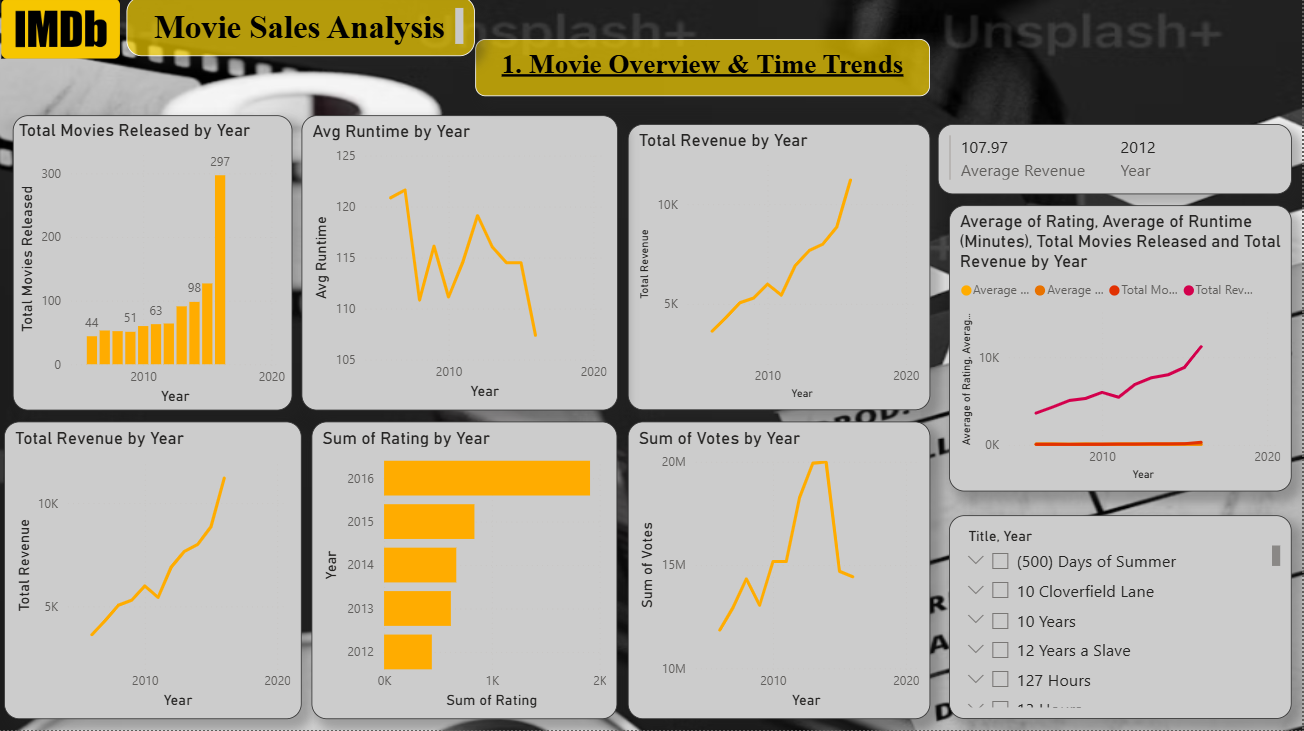

The page's visual inventory and layout, read from the dashboard file:
{"tool":"powerbi","page":{"name":"Page 1","canvas":[1280,720],"ordinal":0},"visuals":[{"type":"columnChart","fields":{"Category":["IMDB-Movie-Data.Year"],"Y":["IMDB-Movie-Data.Total Movies Released"]},"box":[18.3,118.6,273.9,288.6],"z":0},{"type":"lineChart","fields":{"Category":["IMDB-Movie-Data.Year"],"Y":["IMDB-Movie-Data.Total Revenue"]},"box":[620,127.2,295.9,280],"z":1000},{"type":"lineChart","fields":{"Category":["IMDB-Movie-Data.Year"],"Y":["IMDB-Movie-Data.Total Revenue"]},"box":[9.8,418.2,291,291],"z":2000},{"type":"lineChart","fields":{"Category":["IMDB-Movie-Data.Year"],"Y":["IMDB-Movie-Data.Avg Runtime"]},"box":[300.8,118.6,309.4,288.6],"z":3000},{"type":"multiRowCard","fields":{"Values":["IMDB-Movie-Data.Average Revenue","IMDB-Movie-Data.Year"]},"box":[923.2,127.2,346.1,68.5],"z":4000},{"type":"clusteredBarChart","fields":{"Category":["IMDB-Movie-Data.Year"],"Y":["Sum(IMDB-Movie-Data.Rating)"]},"box":[310.6,418.2,299.6,291],"z":5000},{"type":"lineChart","fields":{"Category":["IMDB-Movie-Data.Year"],"Y":["Sum(IMDB-Movie-Data.Votes)"]},"box":[620,418.2,295.9,291],"z":6000},{"type":"lineChart","fields":{"Category":["IMDB-Movie-Data.Year"],"Y":["Avg(IMDB-Movie-Data.Rating)","Avg(IMDB-Movie-Data.Runtime (Minutes))","IMDB-Movie-Data.Total Movies Released","IMDB-Movie-Data.Total Revenue"]},"box":[934.2,206.7,335.1,280],"z":7000},{"type":"textbox","box":[470.8,44,445.1,56.3],"z":8000},{"type":"slicer","fields":{"Values":["IMDB-Movie-Data.Title","IMDB-Movie-Data.Year"]},"box":[934.2,509.9,335.1,199.3],"z":9000},{"type":"image","box":[0,0,129.6,68.5],"z":10000},{"type":"textbox","box":[129.6,2.4,341.2,58.7],"z":11000}]}

Visuals, with their boxes in screenshot pixels (x1, y1, x2, y2), scaled from the page's 1280x720 canvas onto the 1304x731 screenshot:
columnChart - IMDB-Movie-Data.Year x IMDB-Movie-Data.Total Movies Released: box=[19, 120, 298, 413]
lineChart - IMDB-Movie-Data.Year x IMDB-Movie-Data.Total Revenue: box=[632, 129, 933, 413]
lineChart - IMDB-Movie-Data.Year x IMDB-Movie-Data.Total Revenue: box=[10, 425, 306, 720]
lineChart - IMDB-Movie-Data.Year x IMDB-Movie-Data.Avg Runtime: box=[306, 120, 622, 413]
multiRowCard - IMDB-Movie-Data.Average Revenue x IMDB-Movie-Data.Year: box=[941, 129, 1293, 199]
clusteredBarChart - IMDB-Movie-Data.Year x Sum(IMDB-Movie-Data.Rating): box=[316, 425, 622, 720]
lineChart - IMDB-Movie-Data.Year x Sum(IMDB-Movie-Data.Votes): box=[632, 425, 933, 720]
lineChart - IMDB-Movie-Data.Year x Avg(IMDB-Movie-Data.Rating): box=[952, 210, 1293, 494]
textbox: box=[480, 45, 933, 102]
slicer - IMDB-Movie-Data.Title x IMDB-Movie-Data.Year: box=[952, 518, 1293, 720]
image: box=[0, 0, 132, 70]
textbox: box=[132, 2, 480, 62]
